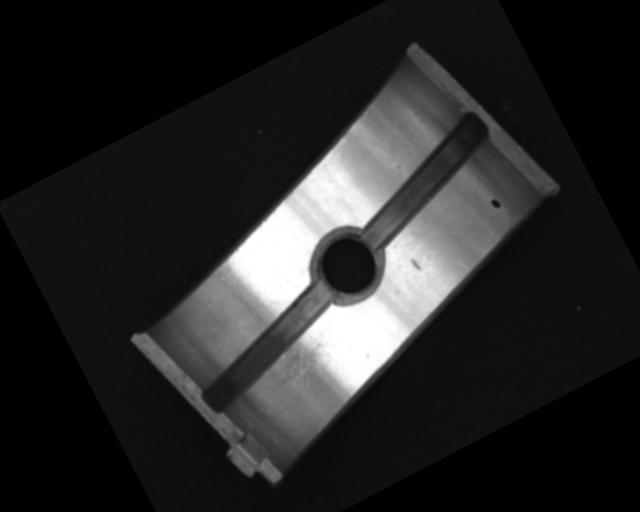blot: (488, 195, 503, 212)
bruise: (409, 256, 421, 272)
gap: (335, 110, 513, 252), (178, 278, 356, 417)
hole: (302, 218, 395, 311)
scratch: (248, 326, 348, 408)
